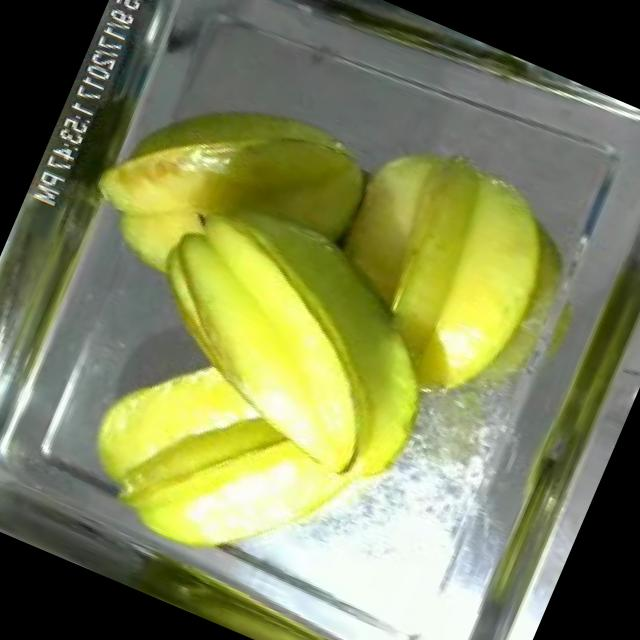fruit: (90, 156, 487, 516), (51, 316, 388, 611), (64, 41, 394, 340), (288, 109, 586, 426)
